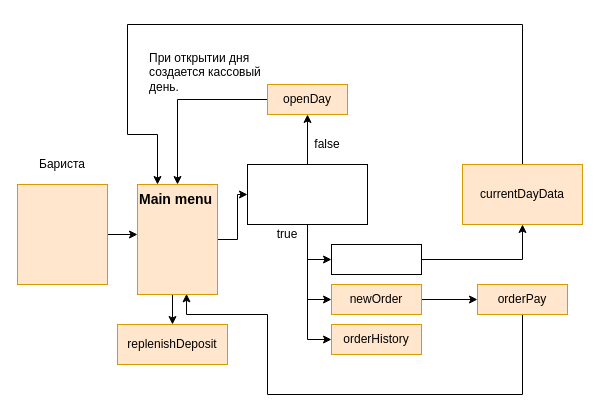
Some shapes in this 600 by 420 pixel diagram are drawn without their labels. The centre of each missing label's shape, as x and y in pixels:
"AuthPage login password" belongs at pixel 62 234.
"closeDay" belongs at pixel 376 259.
"isDayOpen?" belongs at pixel 307 194.
